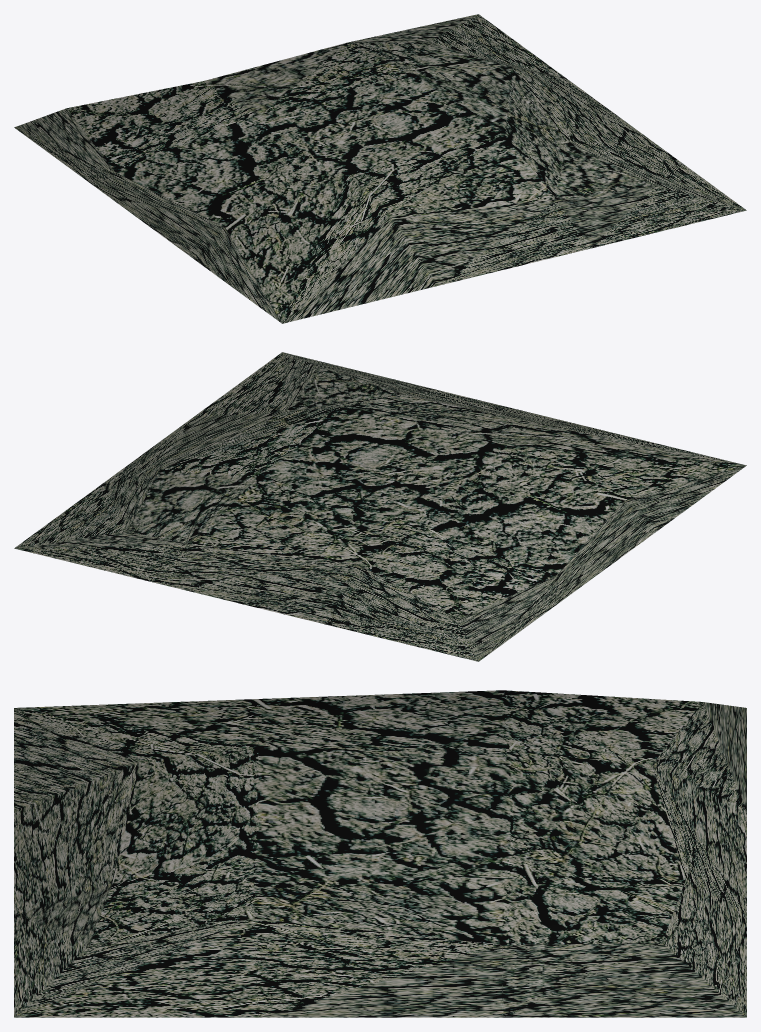
The model's file is tower_tar.FBX.
3 views of the same model, one above another, from view 1: azimuth 30°, elevation 25°; view 2: azimuth 150°, elevation 25°; view 3: azimuth 270°, elevation 25° (orthographic). The views are drawn at different scales.
Parts seen in each view (by area): view 1: tower_tar; view 2: tower_tar; view 3: tower_tar.
Boxes of the visible parts, left/top/right/bottom form: tower_tar: left=14, top=14, right=746, bottom=323; tower_tar: left=14, top=352, right=746, bottom=661; tower_tar: left=14, top=690, right=746, bottom=1017.
Bounding box in the file's own units: 20 × 2 × 20.
Materials: 1 (1 with a texture image).
